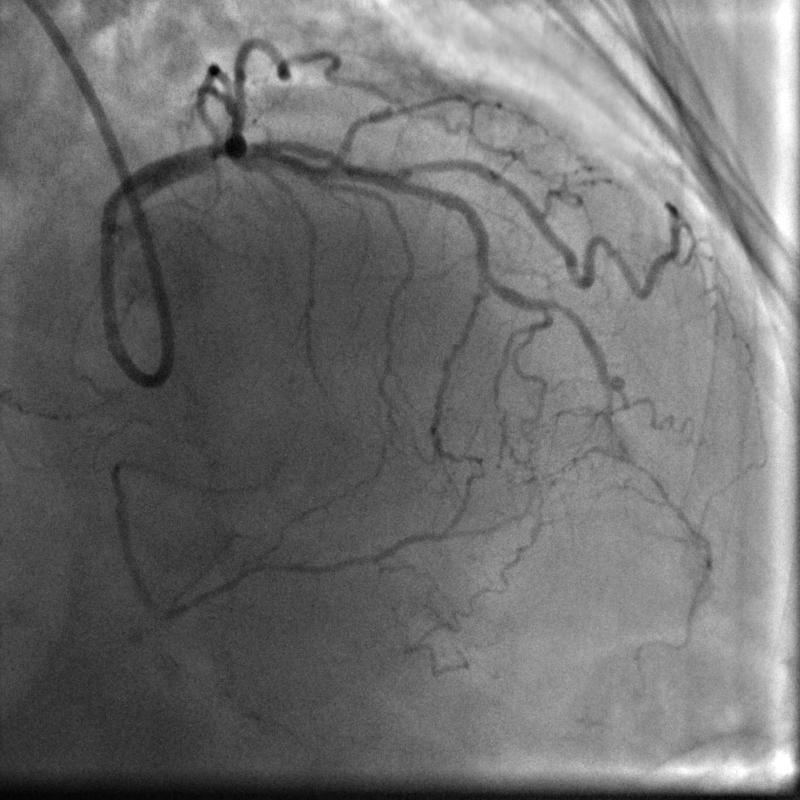Stenosis: (203, 122, 232, 175)
